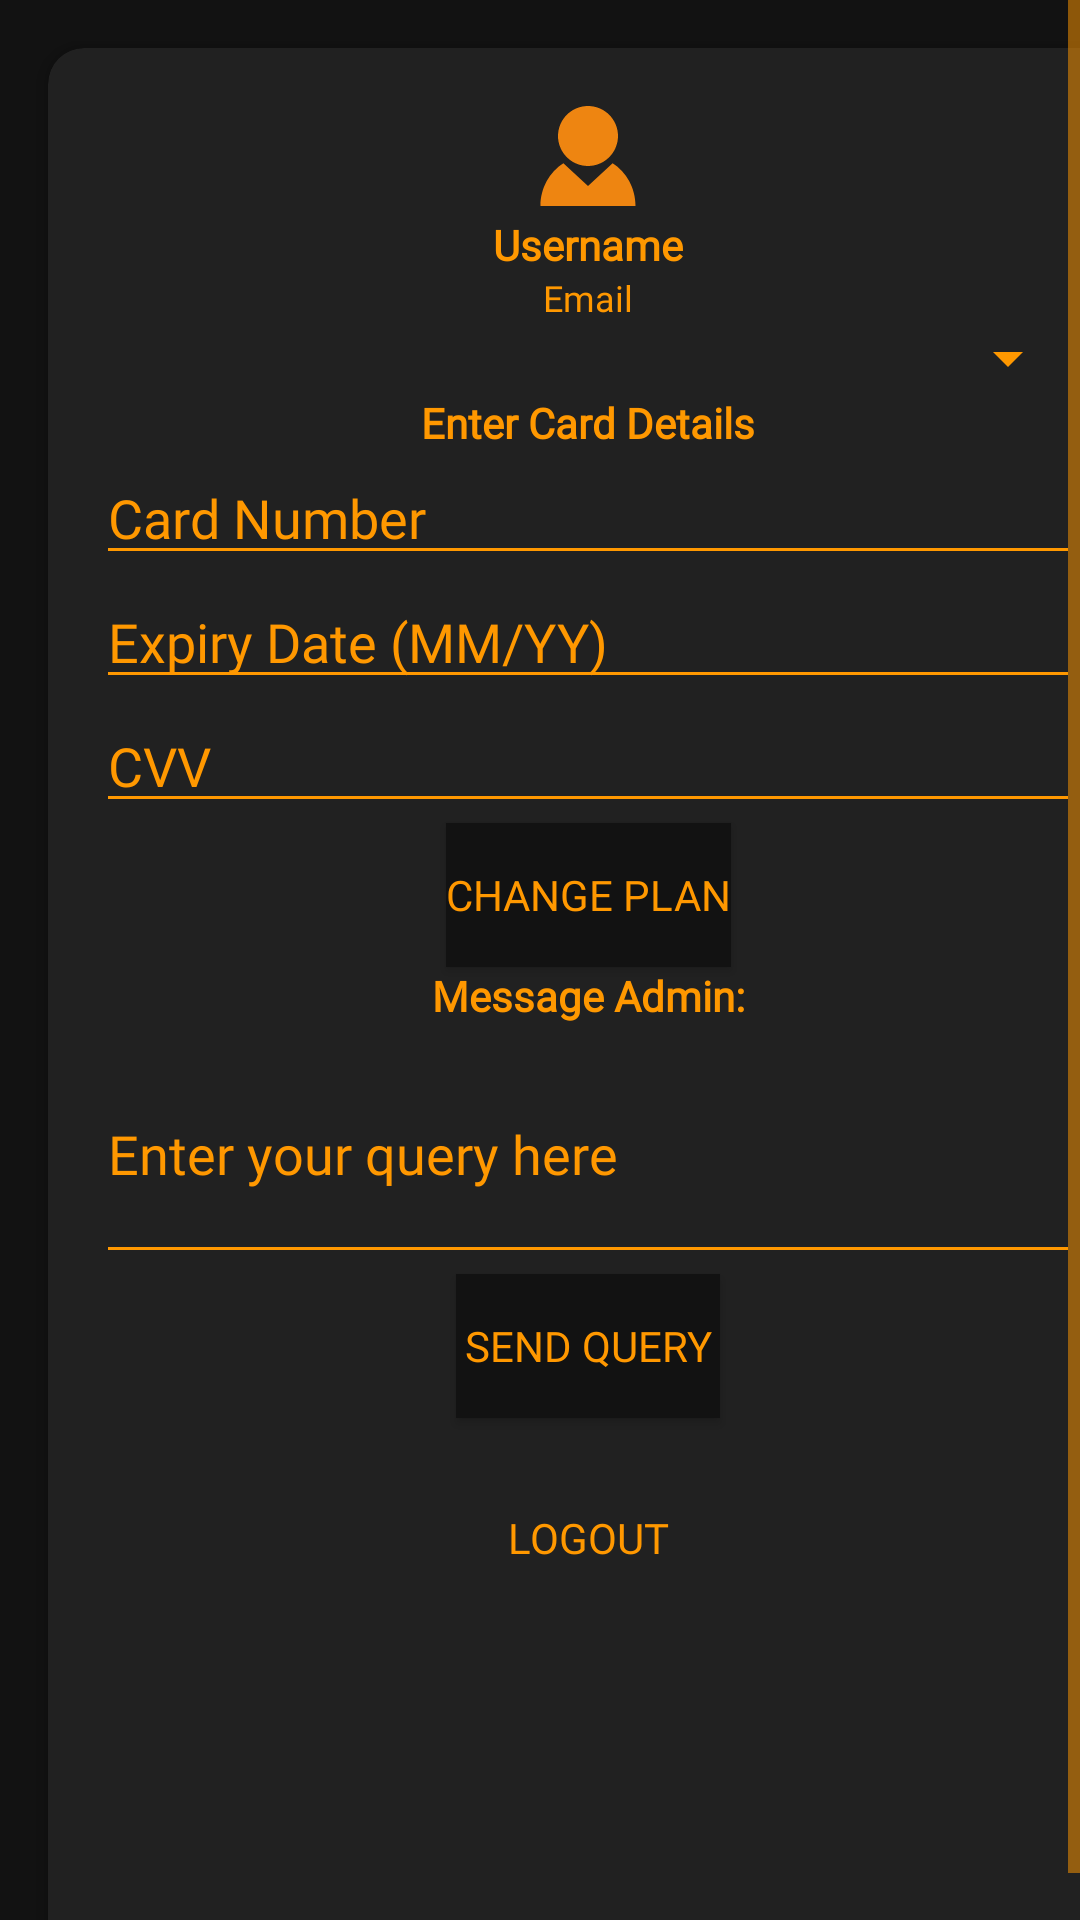

Icon bounding boxes for this 1080px×1920px phone screenshot, format (x1, y1, x2, y2):
account: (540, 106, 636, 206)
